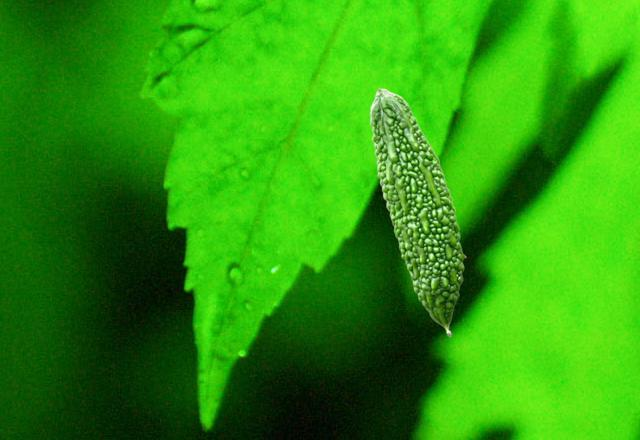ampalaya: (367, 87, 467, 337)
